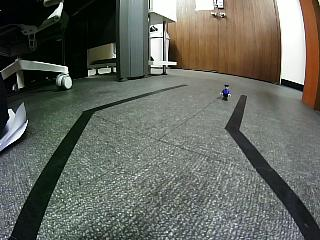person: (220, 84, 231, 102)
